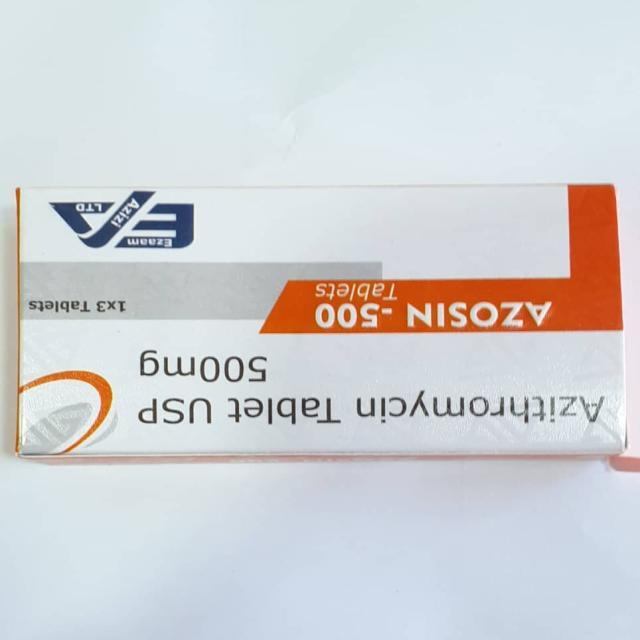drug-name: (311, 298, 554, 329)
